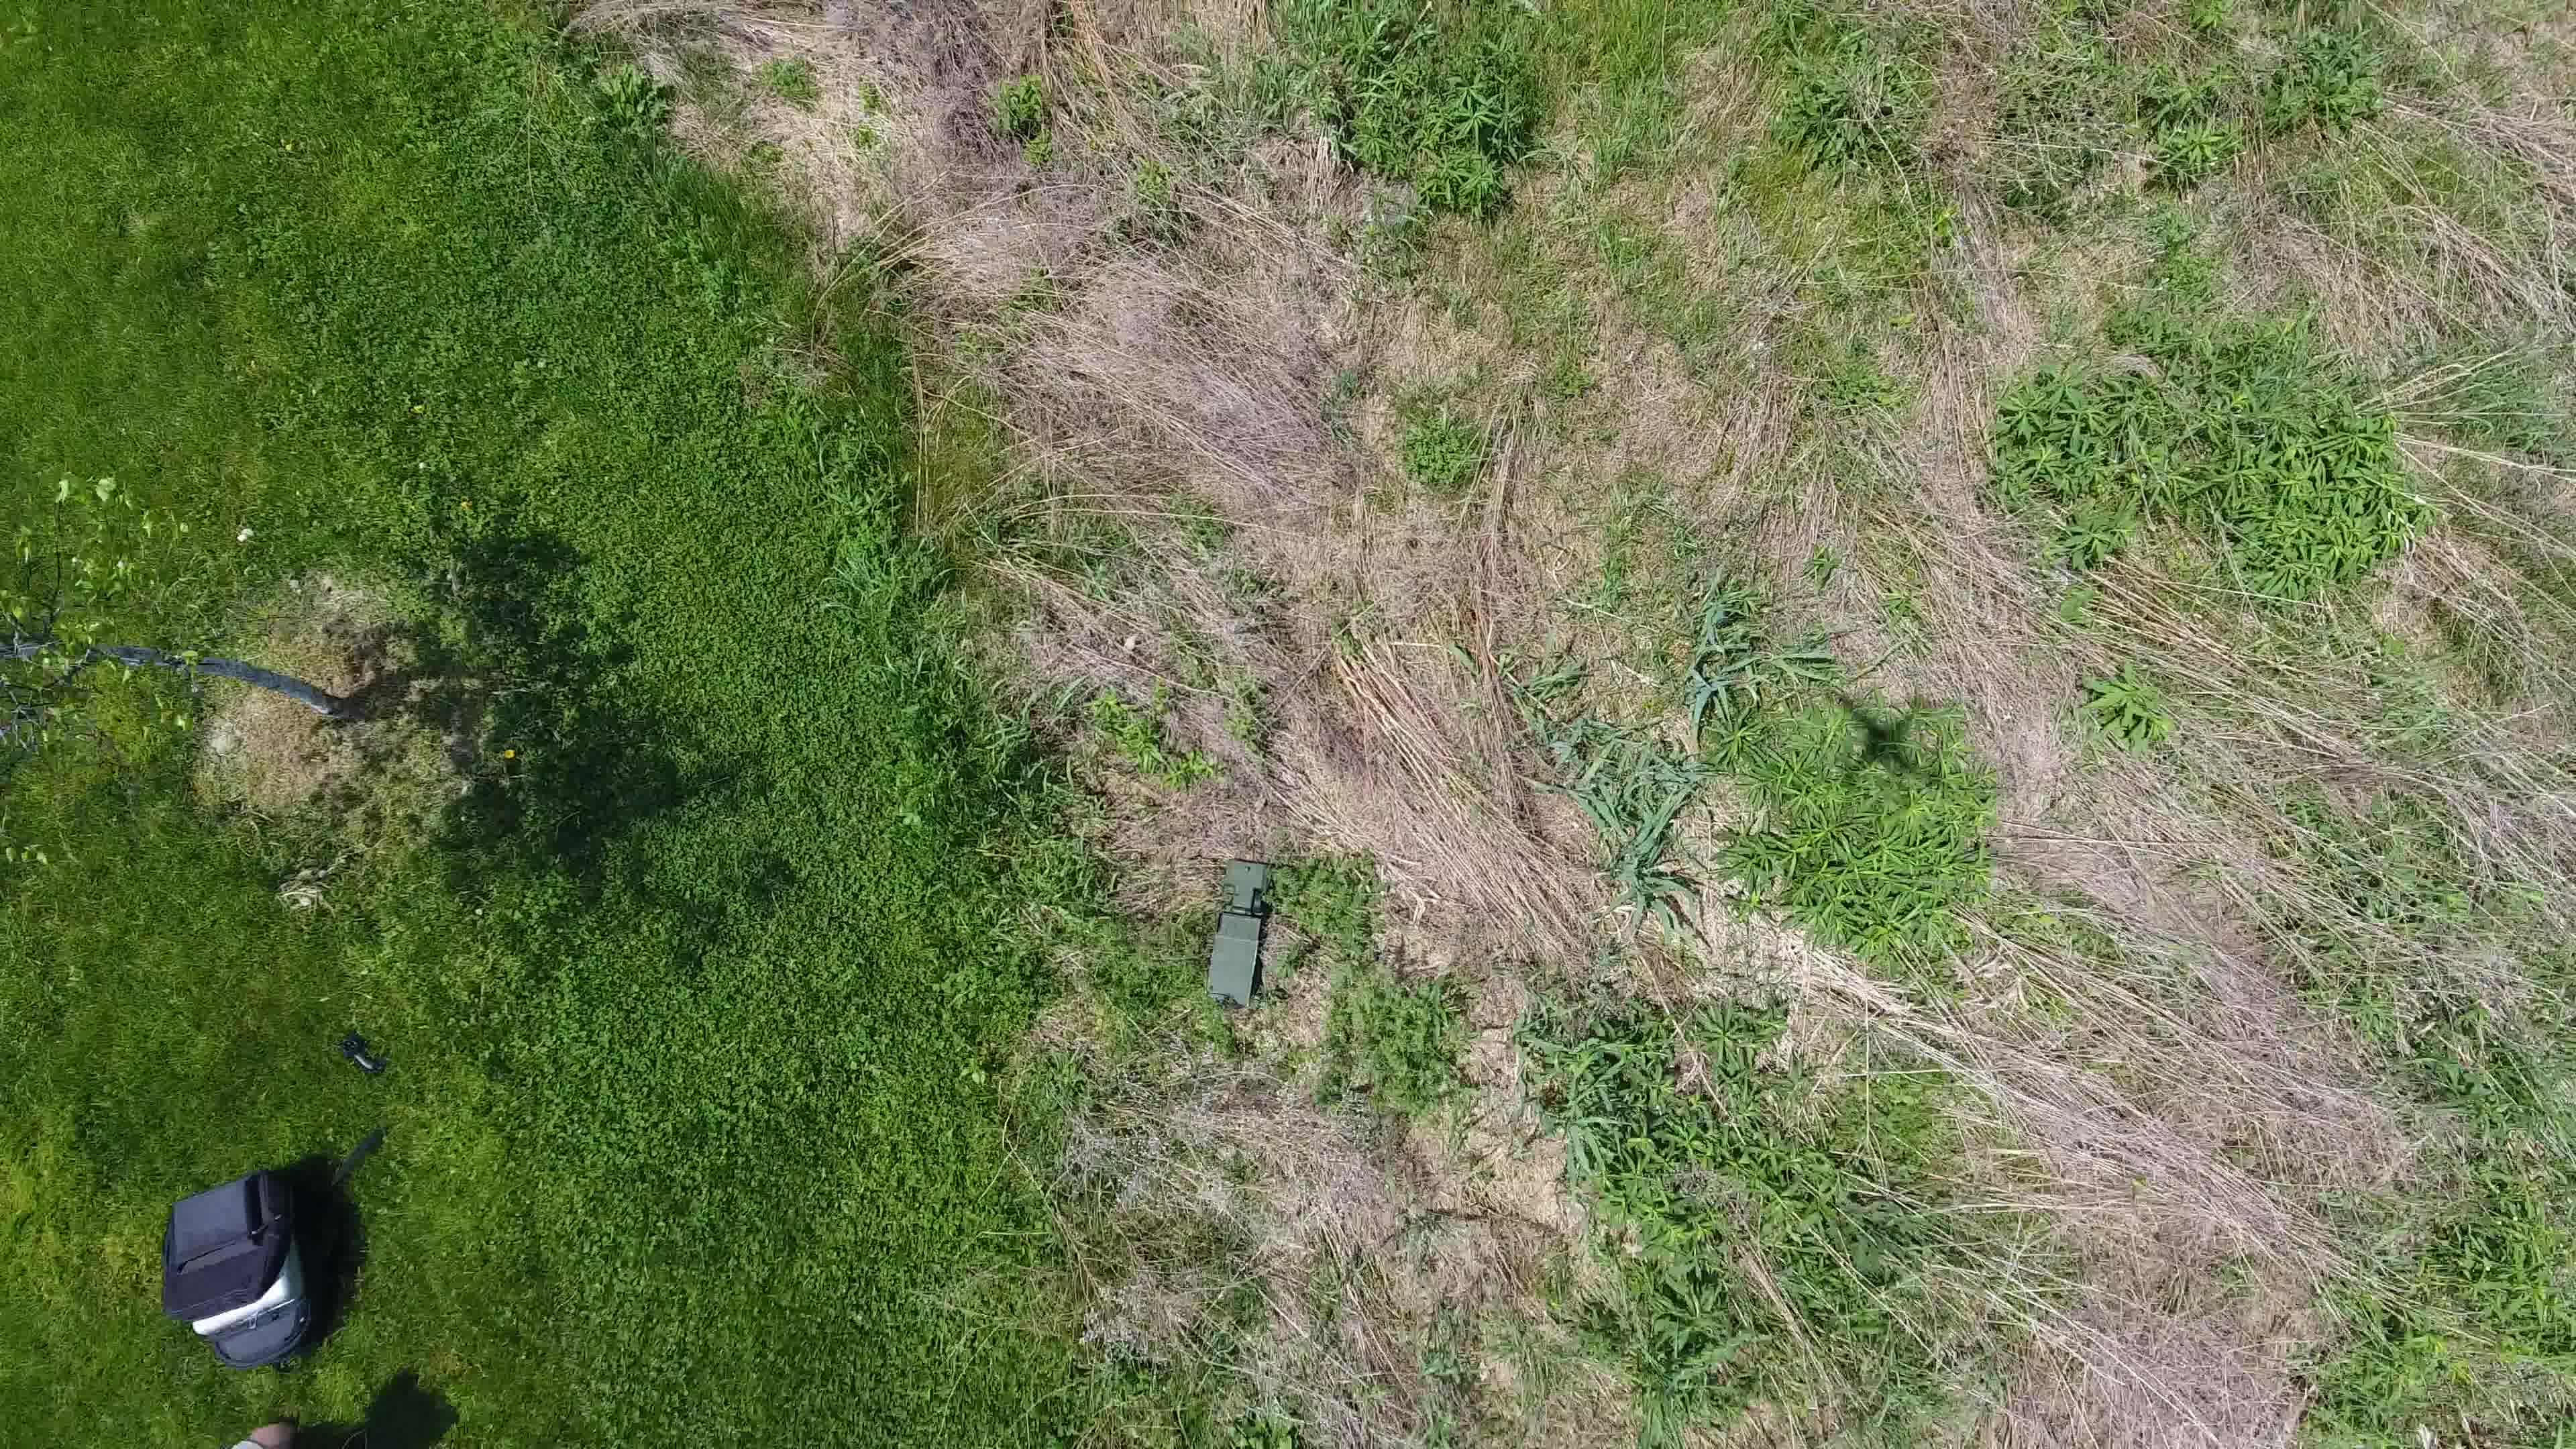transporter9: (1194, 853, 1277, 1014)
